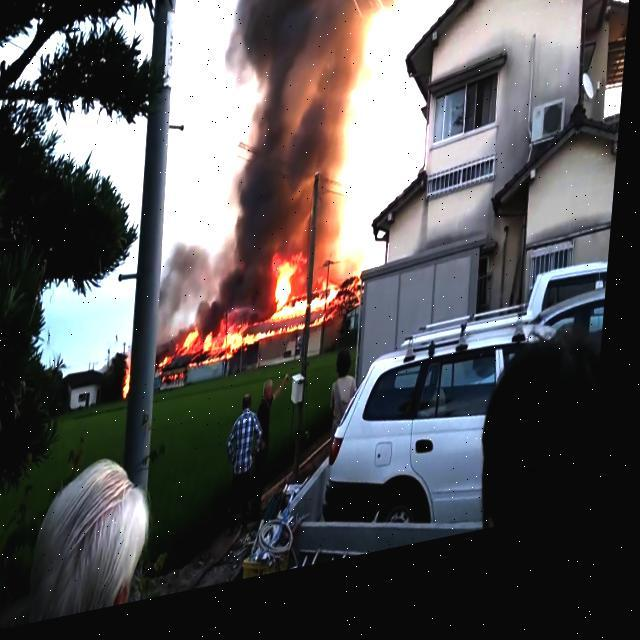Fire: (185, 326, 332, 376), (277, 264, 371, 338), (128, 372, 138, 402), (163, 360, 176, 380)
